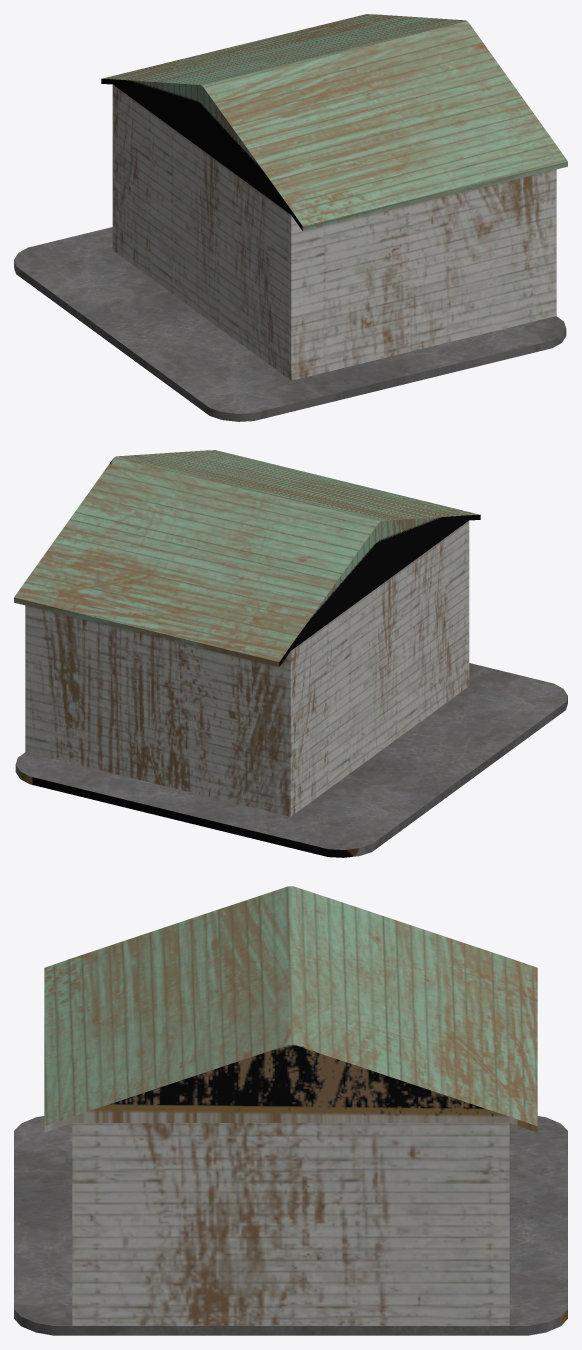
Rendered from main.glb.
The picture shows the model from 3 angles, top to bottom: view 1: azimuth 30°, elevation 25°; view 2: azimuth 150°, elevation 25°; view 3: azimuth 270°, elevation 25°; orthographic projection. The views are drawn at different scales.
Parts seen in each view (by area): view 1: Store_Base_Body_M_Store_0; view 2: Store_Base_Body_M_Store_0; view 3: Store_Base_Body_M_Store_0.
Boxes of the visible parts, x1,y1,x2,y2 form: Store_Base_Body_M_Store_0: (14, 14, 567, 421); Store_Base_Body_M_Store_0: (14, 450, 567, 857); Store_Base_Body_M_Store_0: (14, 886, 567, 1335).
Bounding box in the file's own units: 14.06 × 9 × 15.55.
1 material, 1 textured.
